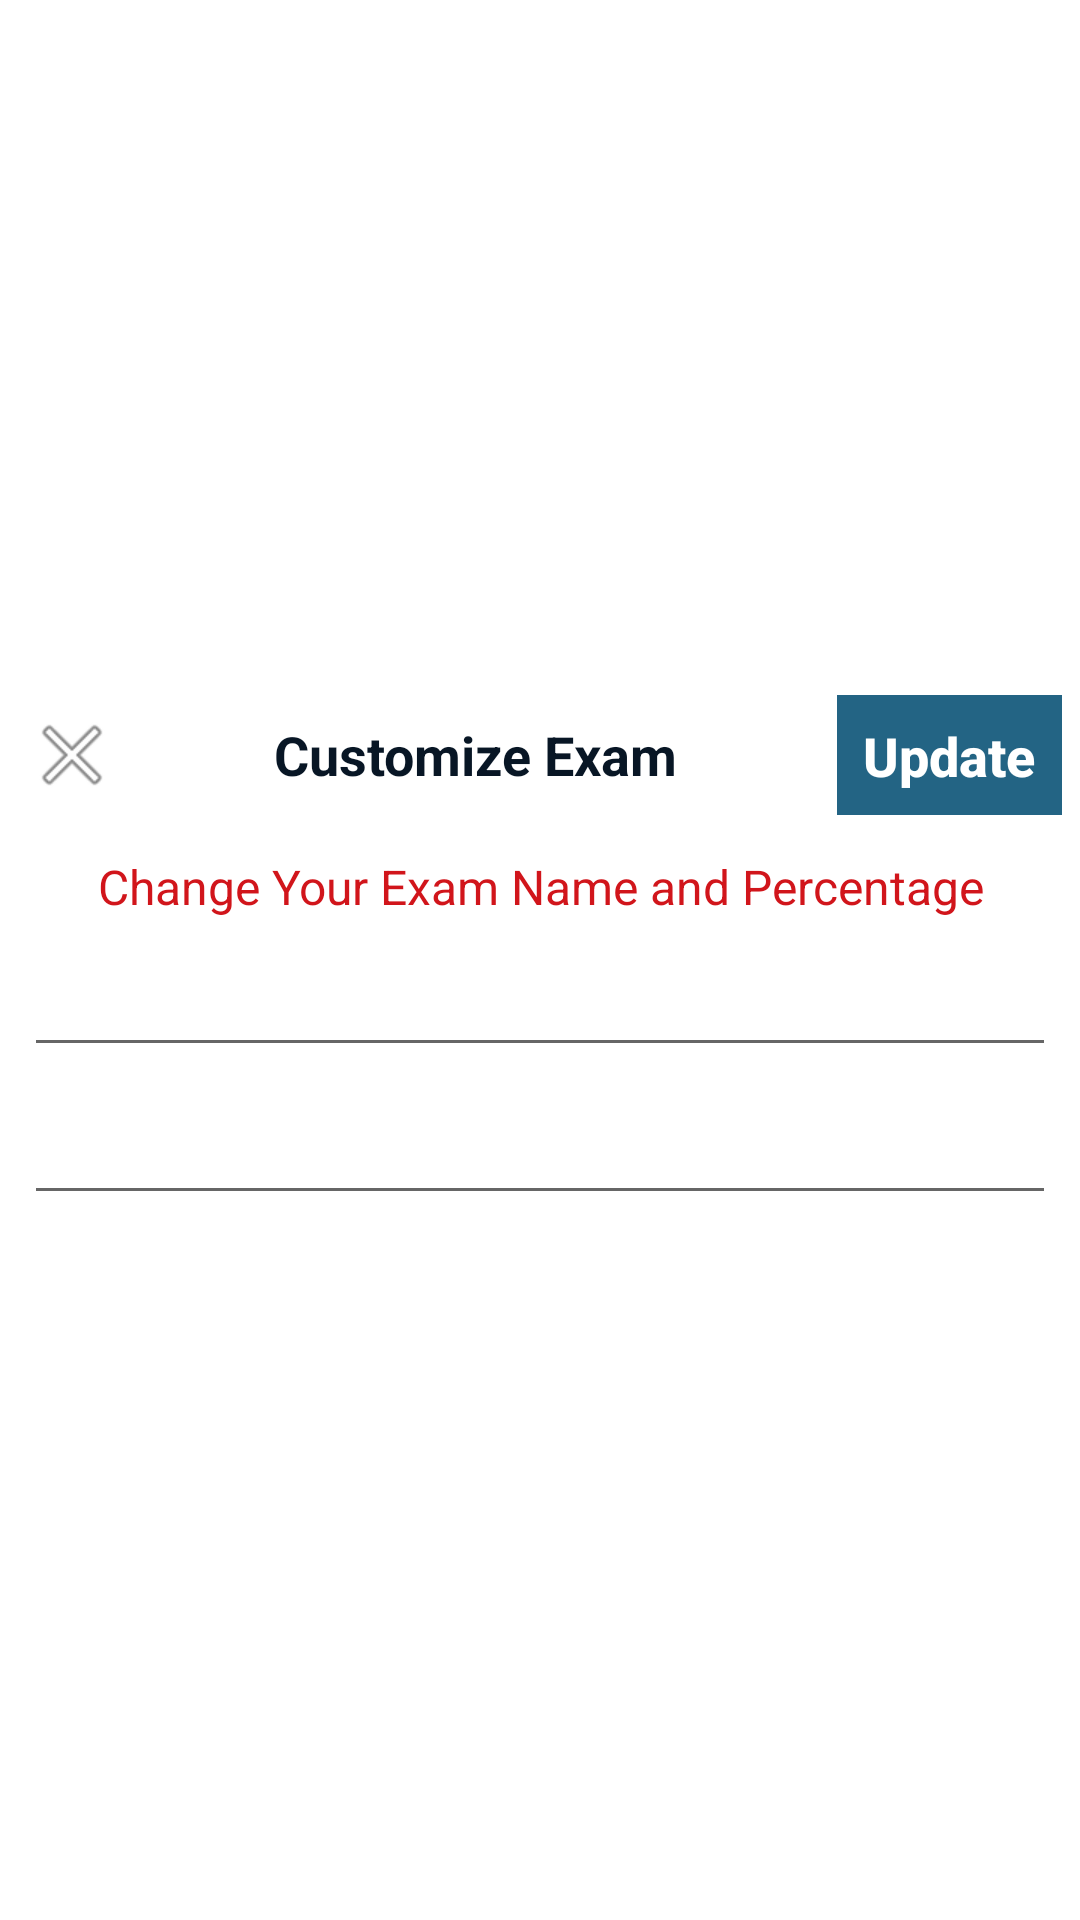

Screen size 1080 × 1920. Icon name, then its center in pixels as (x,y):
close clear cancel: (72,755)
